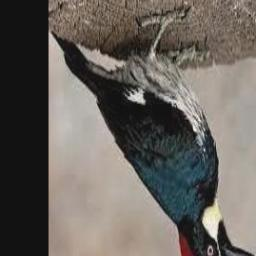Woodpecker: (51, 11, 256, 256)
